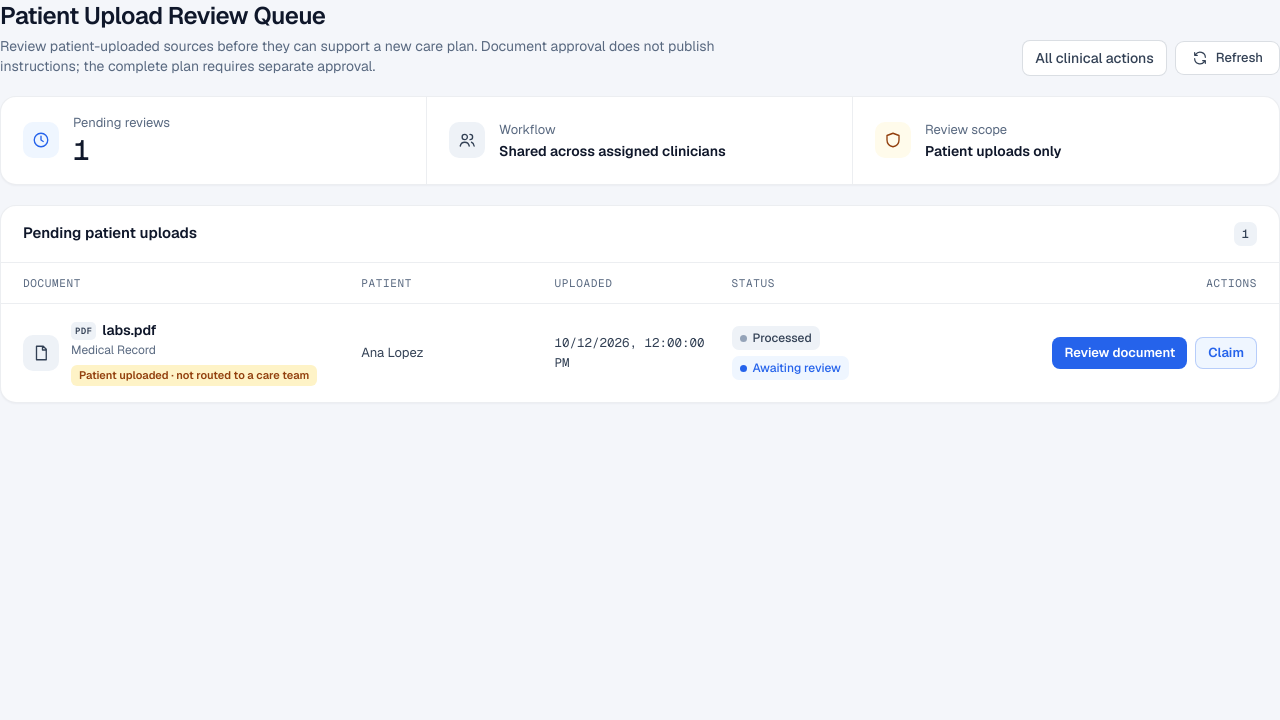
Scenario: claiming a Not sure upload › removes the row with a message when another care team claimed it first
Click the button with aria-label "Claim labs.pdf".
click(1226, 353)  # box 1195,337 -> 1257,369
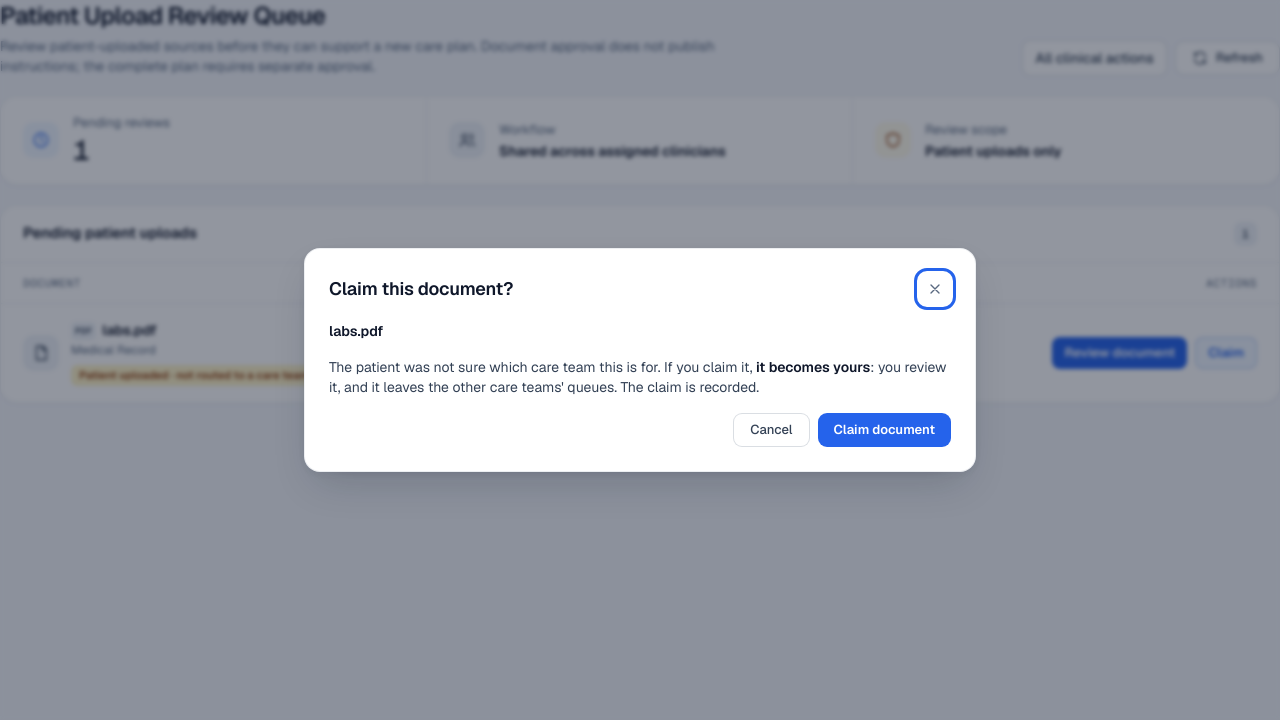
Click the button "Claim document".
click(884, 430)  # box 818,413 -> 951,447
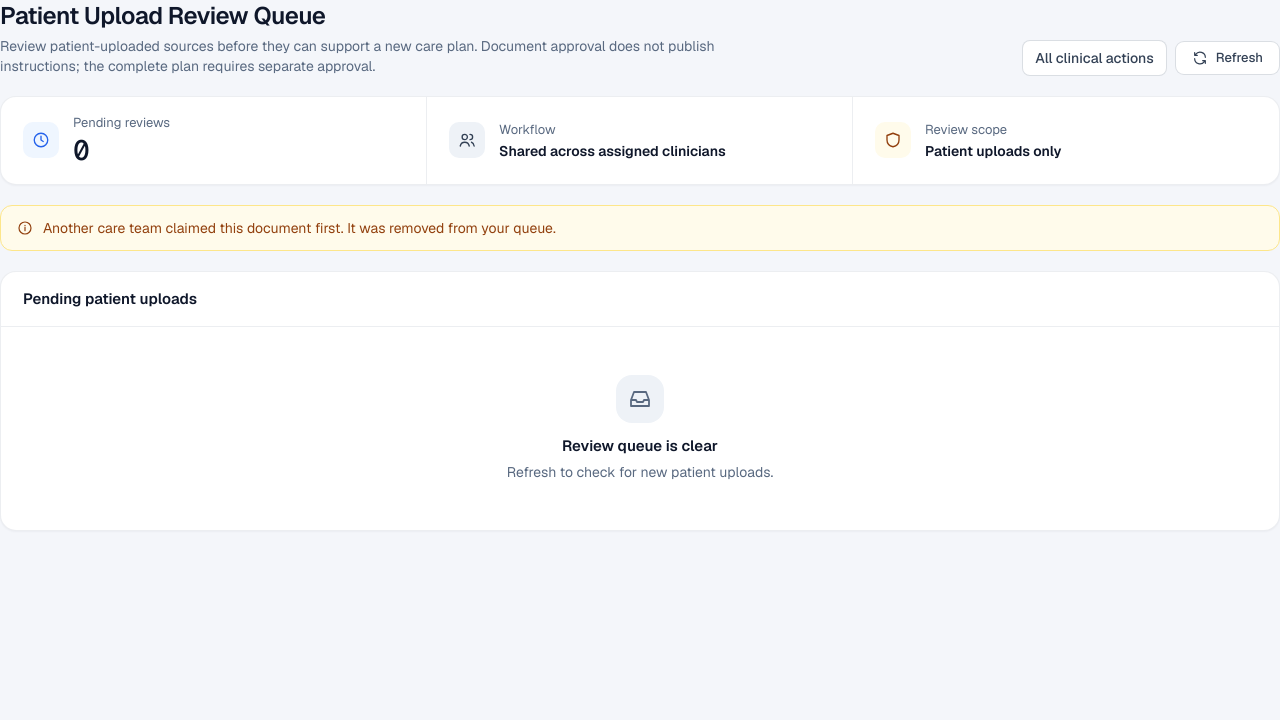
Result: the text "Another care team claimed this document first. It was removed from your queue." is shown at 43,218 -> 556,238
Result: the text "labs.pdf" is gone
